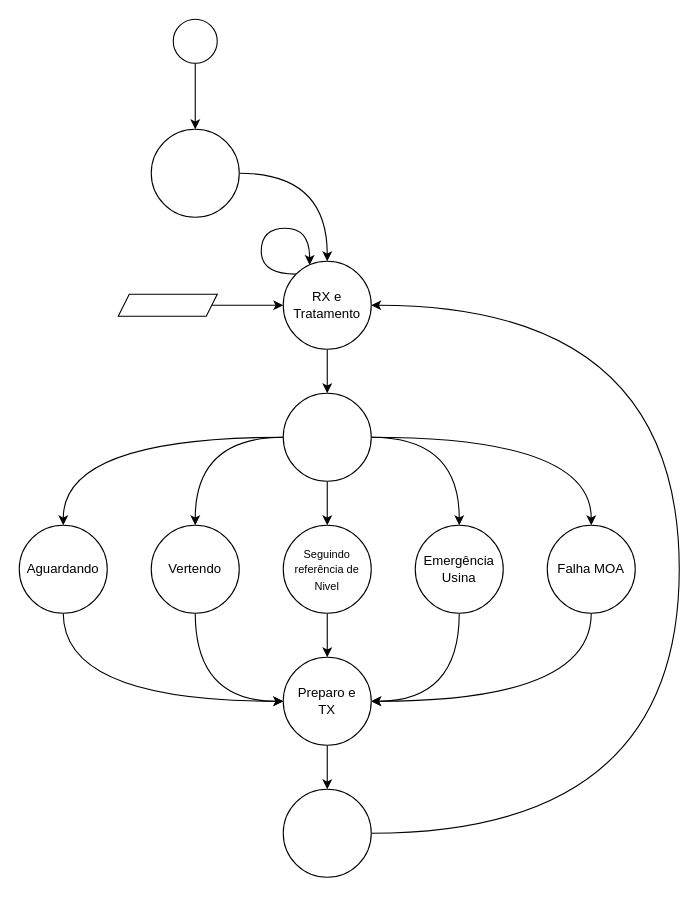
The diagram is 699 pixels wide and 897 high, and some of its shapes have lost their labels. The centre of each missing label's shape, as x and y in pixels:
"Condição operacional estabelecida" goes at (326,436).
"HB" goes at (326,832).
"Interrupção" goes at (167,304).
"Sub-sistemas Iniciados" goes at (194,172).
